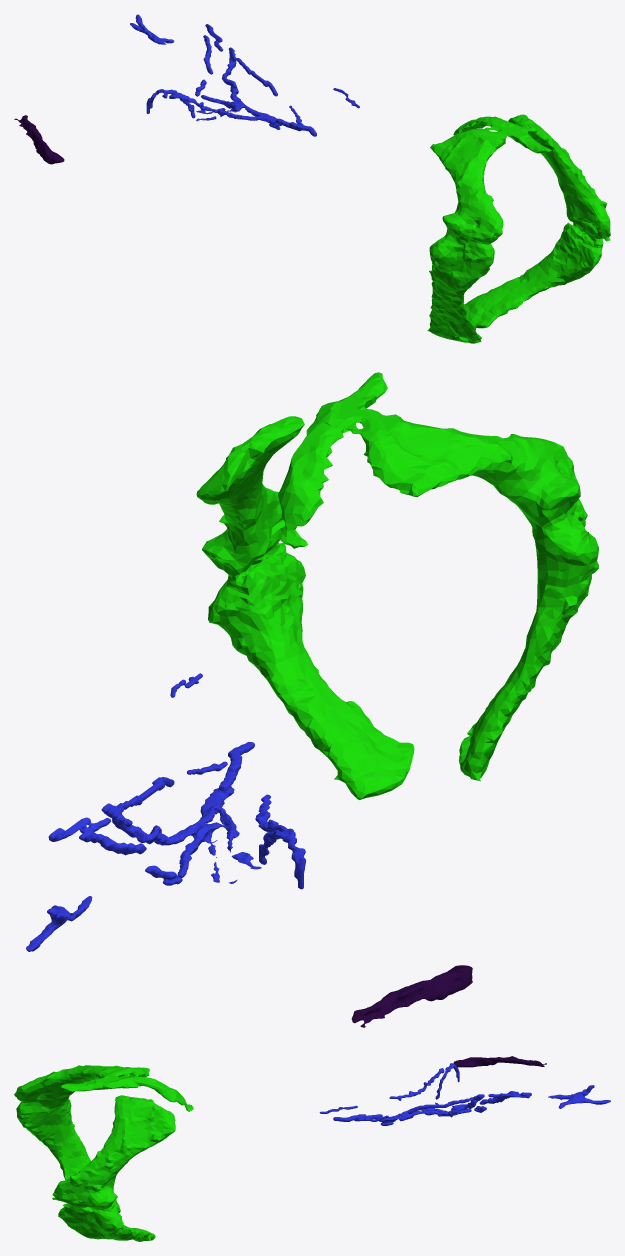
Rendered from ribs_gastralia.glb.
3 renders of one model, top to bottom at view 1: azimuth 30°, elevation 25°; view 2: azimuth 150°, elevation 25°; view 3: azimuth 270°, elevation 25°, orthographic. The views are drawn at different scales.
Parts seen in each view (by area): view 1: Shape_IndexedFaceSet.002, Shape_IndexedFaceSet, Shape_IndexedFaceSet.001; view 2: Shape_IndexedFaceSet.002, Shape_IndexedFaceSet, Shape_IndexedFaceSet.001; view 3: Shape_IndexedFaceSet.002, Shape_IndexedFaceSet, Shape_IndexedFaceSet.001.
Boxes of the visible parts, x1=… form: Shape_IndexedFaceSet.002: x1=427, y1=114, x2=610, y2=343; Shape_IndexedFaceSet: x1=130, y1=14, x2=359, y2=136; Shape_IndexedFaceSet.001: x1=14, y1=115, x2=64, y2=164; Shape_IndexedFaceSet.002: x1=196, y1=372, x2=598, y2=799; Shape_IndexedFaceSet: x1=26, y1=673, x2=305, y2=951; Shape_IndexedFaceSet.001: x1=351, y1=965, x2=472, y2=1027; Shape_IndexedFaceSet.002: x1=14, y1=1065, x2=193, y2=1241; Shape_IndexedFaceSet: x1=319, y1=1063, x2=610, y2=1125; Shape_IndexedFaceSet.001: x1=453, y1=1056, x2=546, y2=1067.
Bounding box in the file's own units: 0.0273 × 0.0147 × 0.0452.
